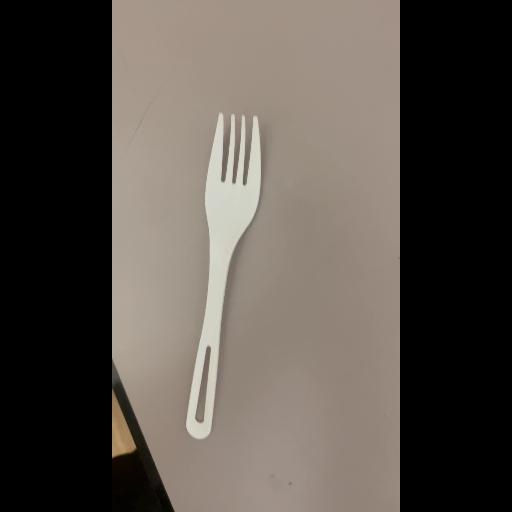utensil: (184, 102, 260, 434)
